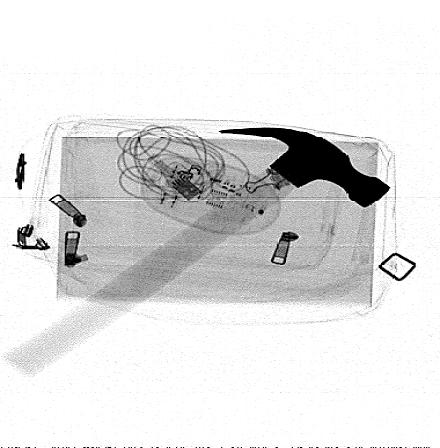Hammer: (2, 127, 392, 379)
